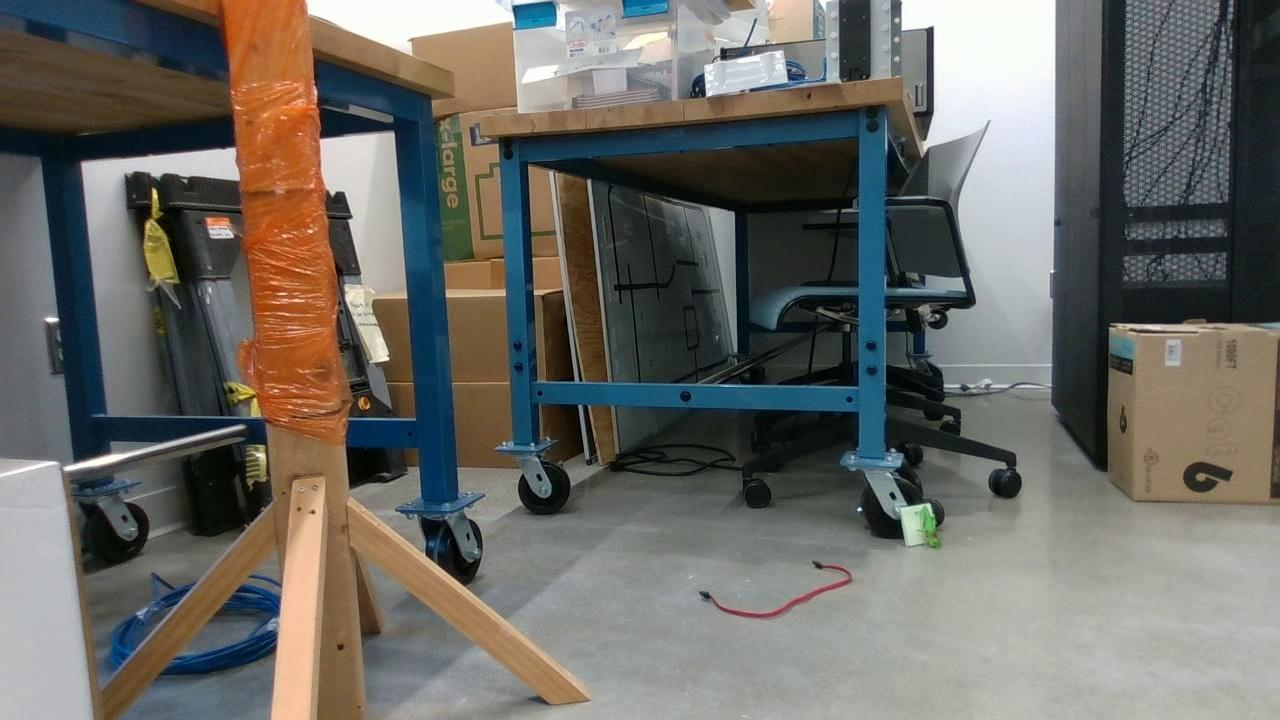grasshopper: (922, 505, 937, 548)
